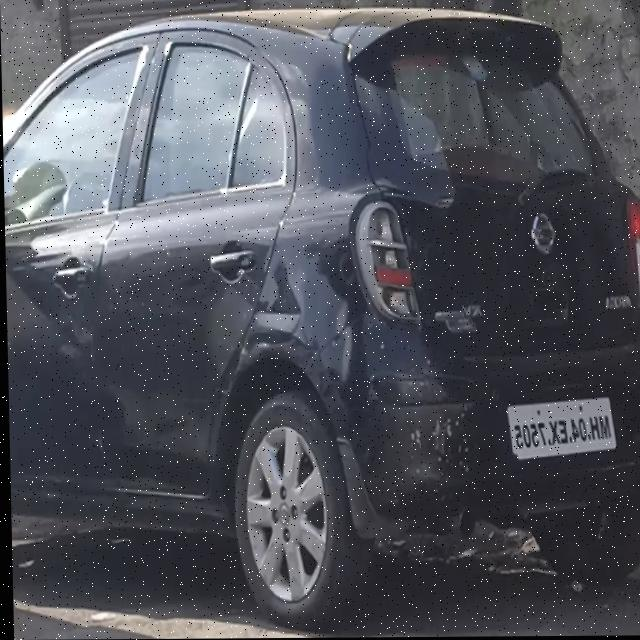plate: (505, 395, 617, 461)
